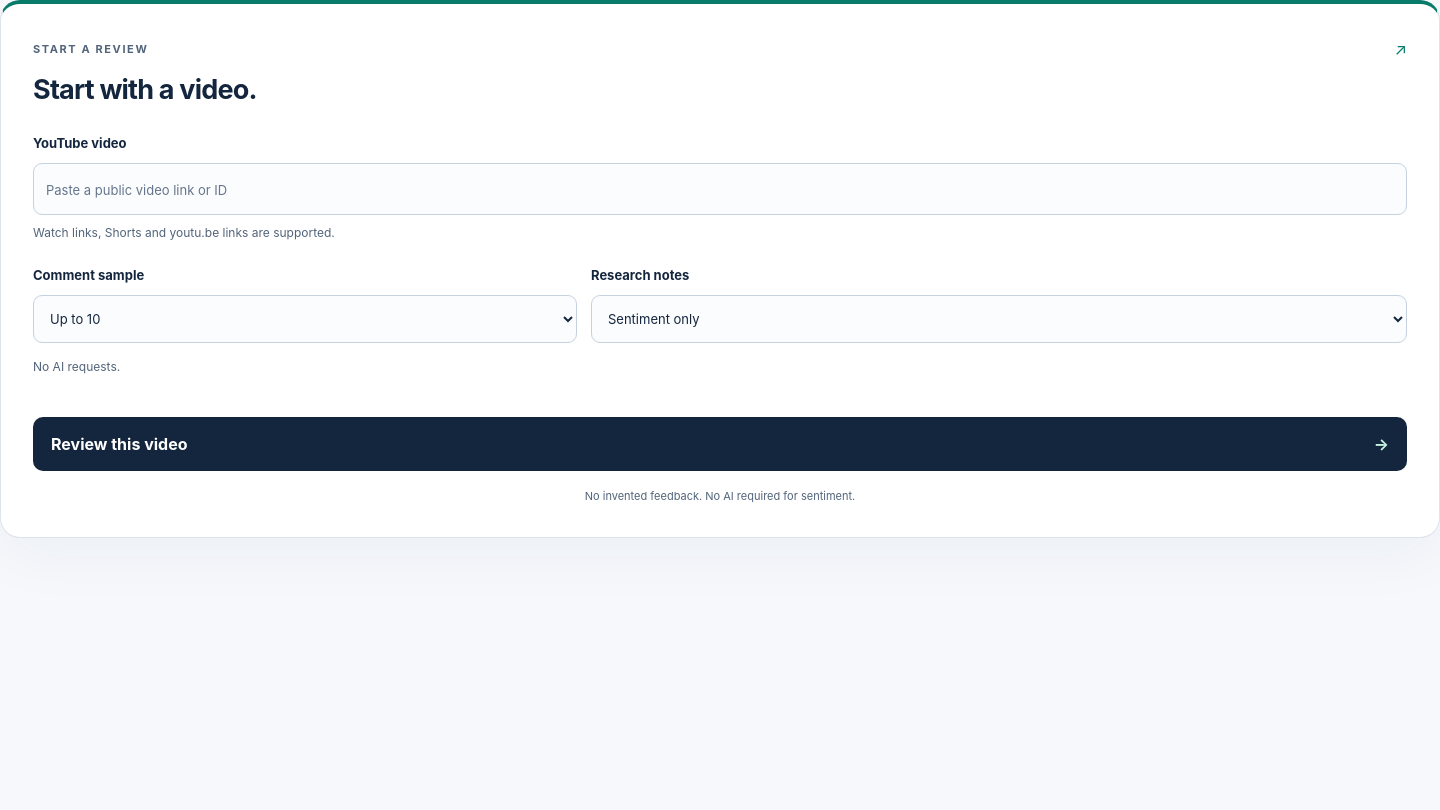
Test: refuses a coherent result attributed to a different selected provider
The width and height of the screenshot is (1440, 810).
In the field labelled "YouTube video": (720, 189) [33, 163, 1407, 215], type "aB3_dE5-fG7"
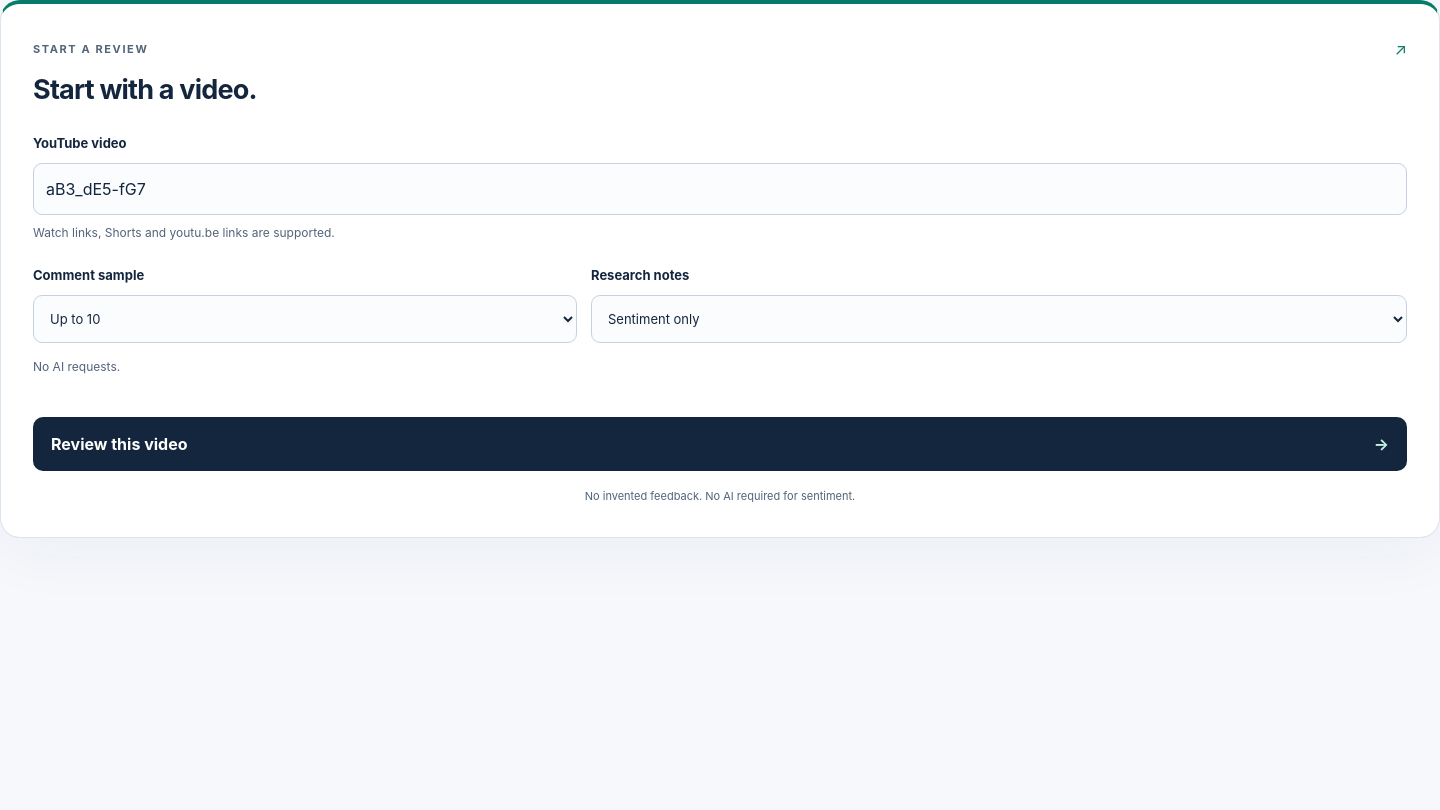
Click the button "Review this video →": click(119, 444) [33, 416, 1407, 471]
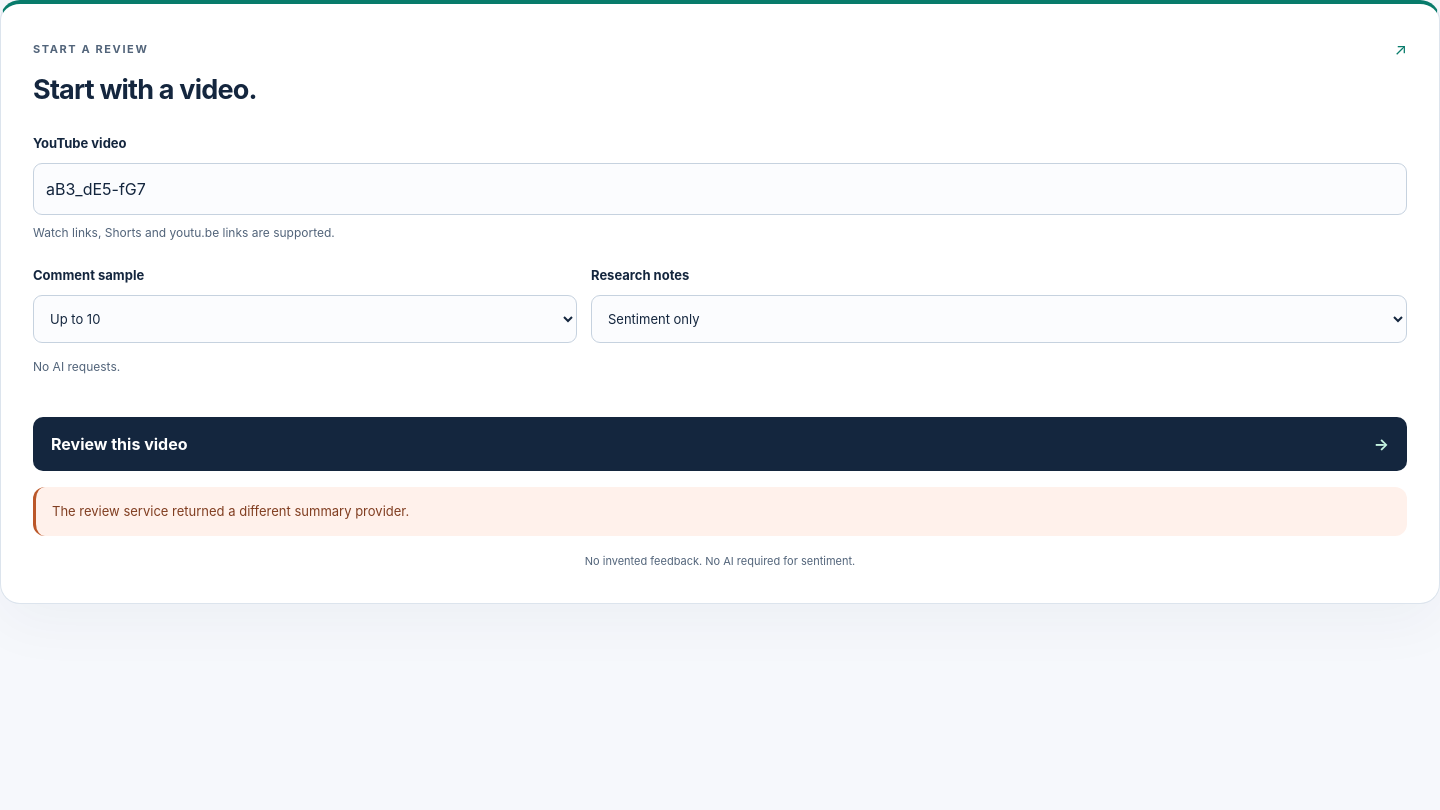
Check: the message shows "different summary provider", box [52, 503, 409, 519]
